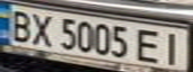0: (90, 20, 115, 56), (72, 19, 93, 54)
5: (109, 22, 136, 60), (54, 16, 78, 51)
B: (3, 7, 36, 43)
E: (133, 27, 166, 64)
I: (157, 29, 190, 65)
X: (24, 11, 57, 47)
